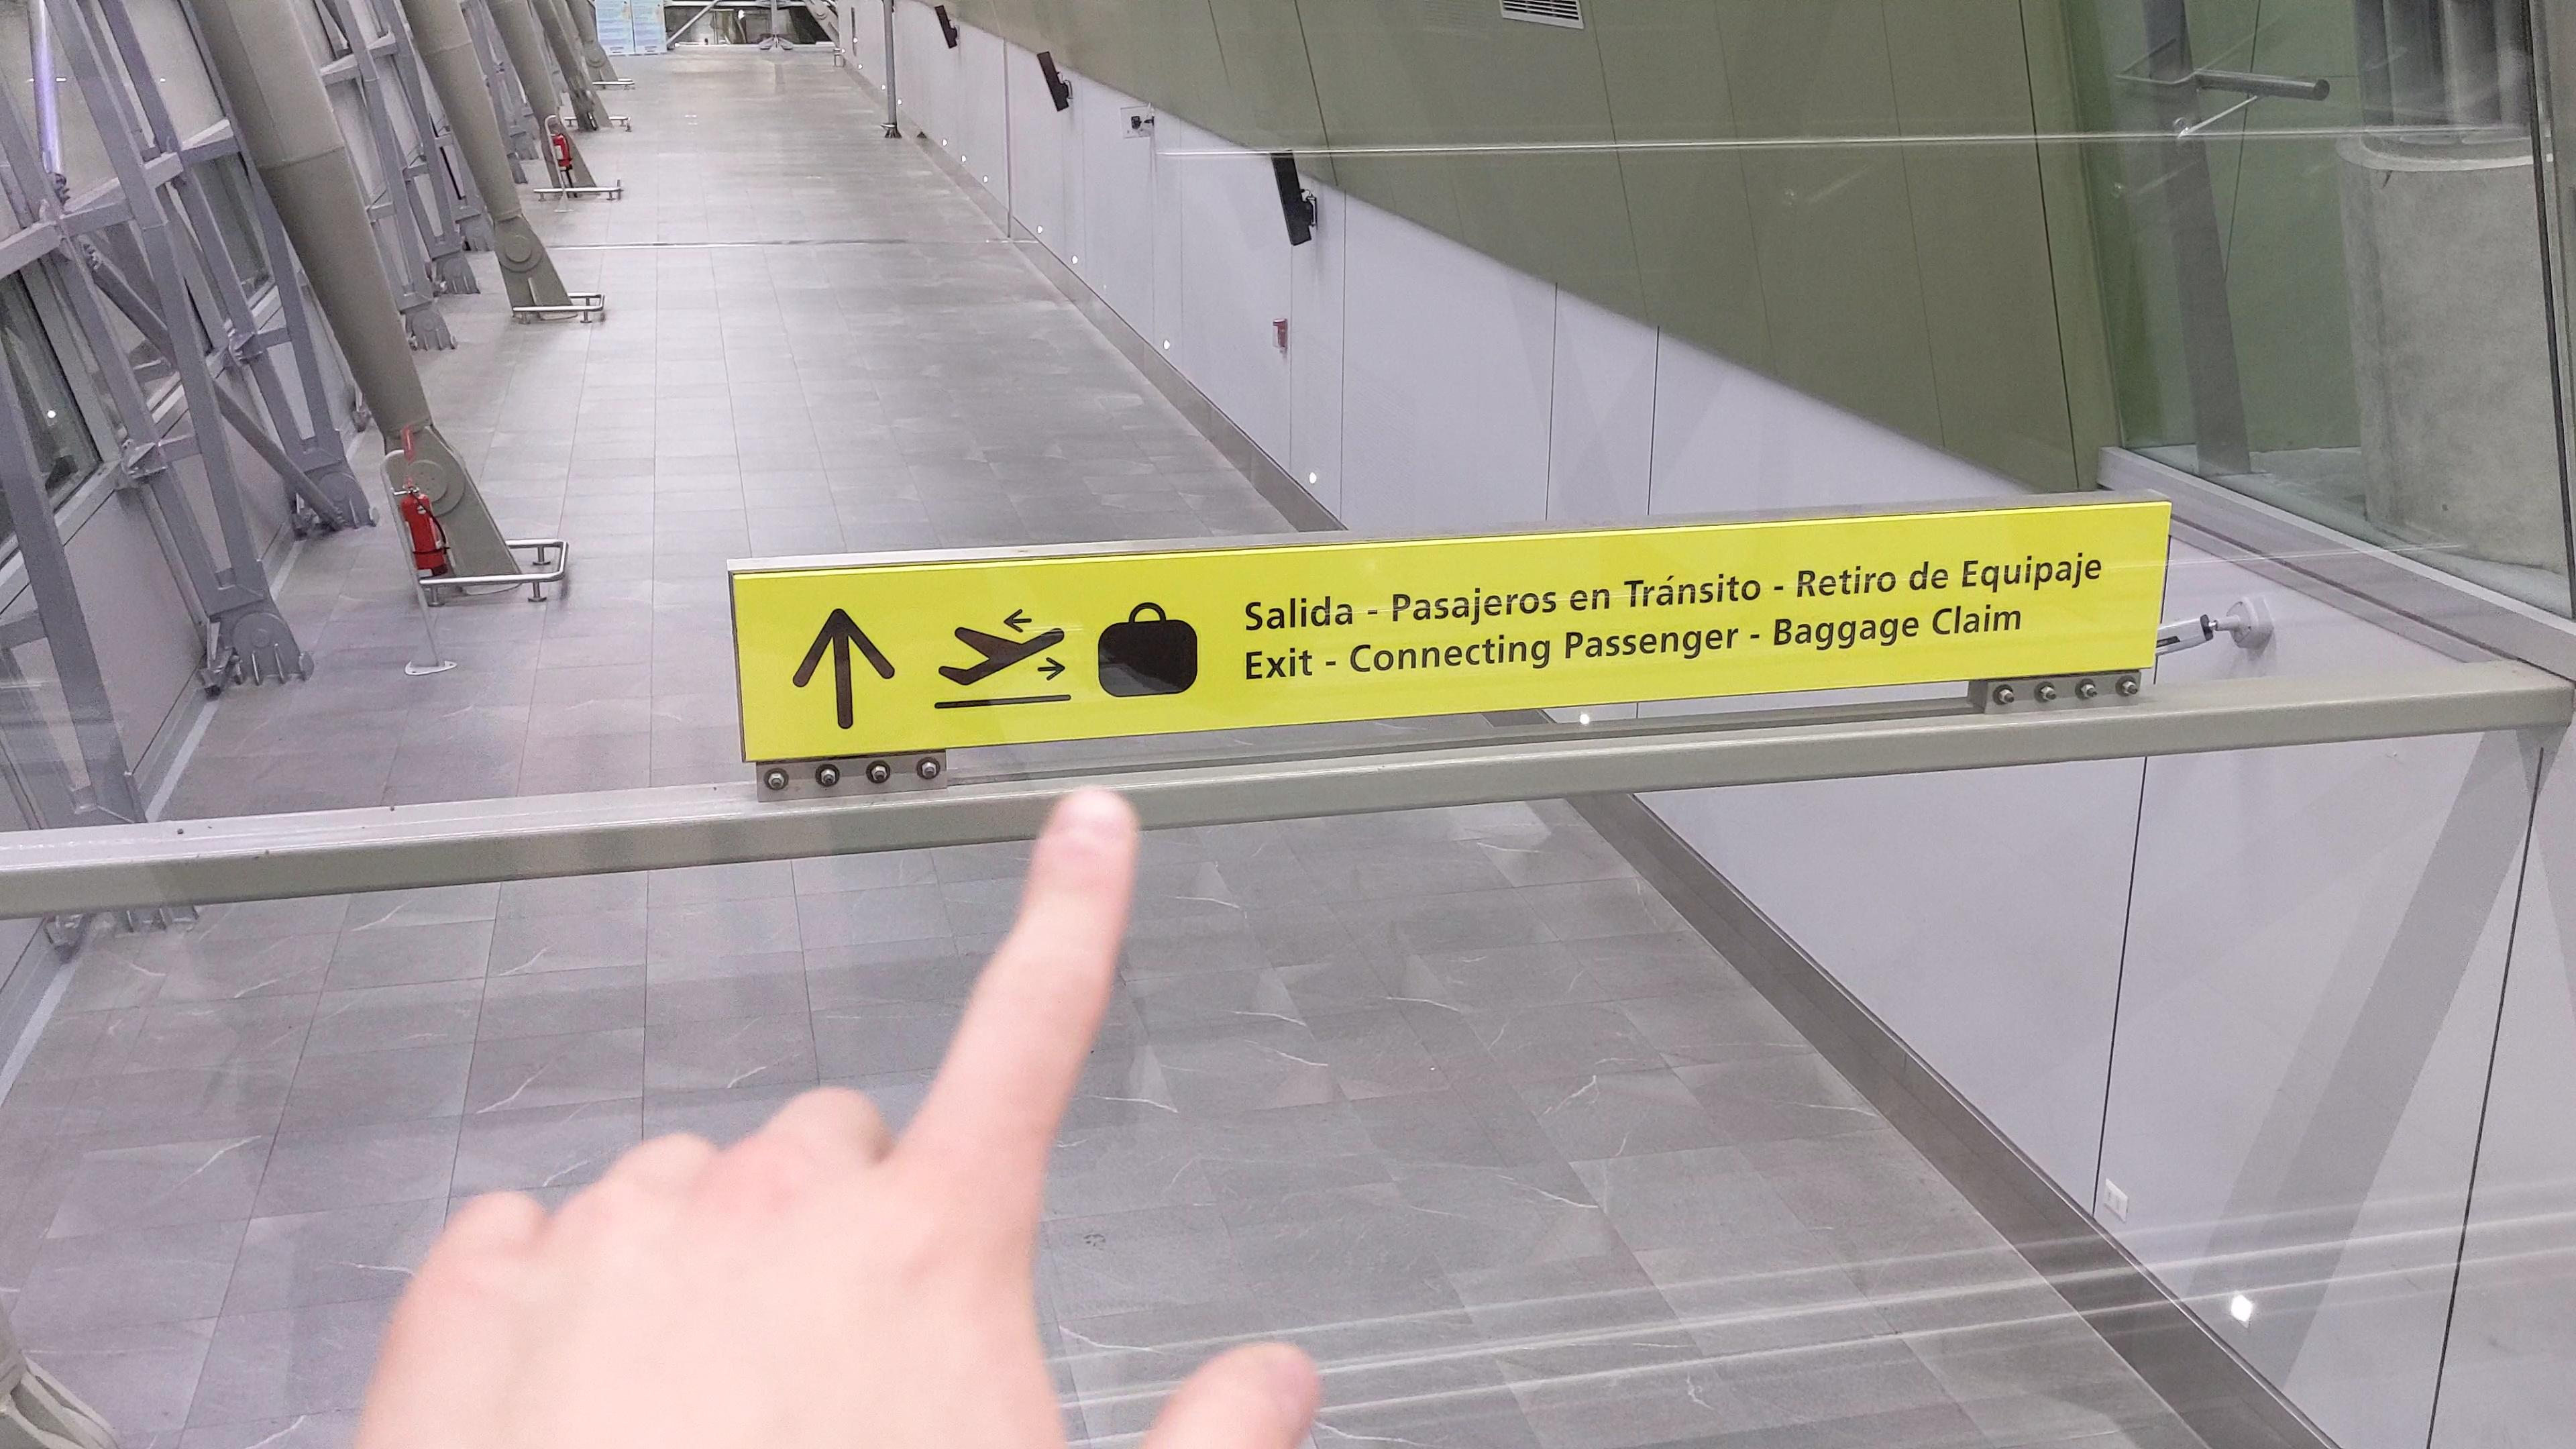airplane symbol: (934, 607, 1074, 692)
baggage claim: (1093, 599, 1201, 700)
thin up arrow: (792, 603, 900, 735)
